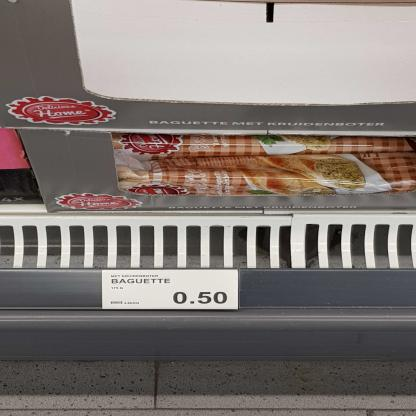prtg: (103, 271, 240, 311)
